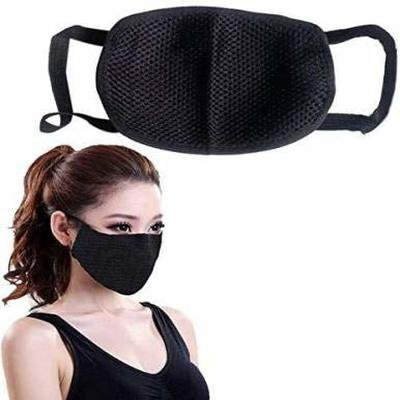mask: (1, 135, 179, 292)
